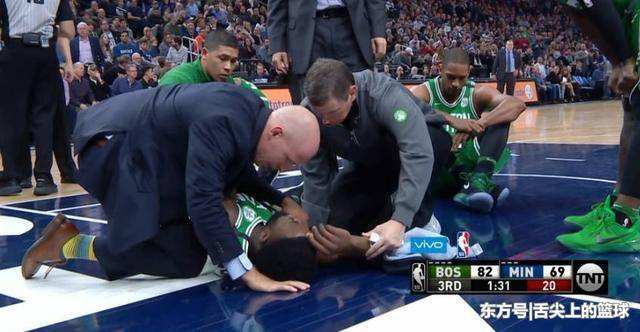10+: (6, 4, 640, 252)
down: (175, 188, 361, 294)
